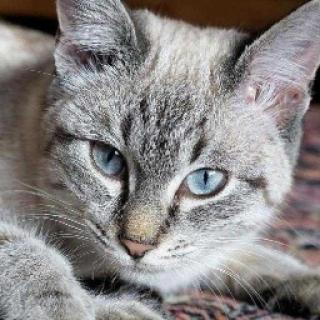cat: (41, 0, 300, 285)
nose: (113, 190, 169, 267)
